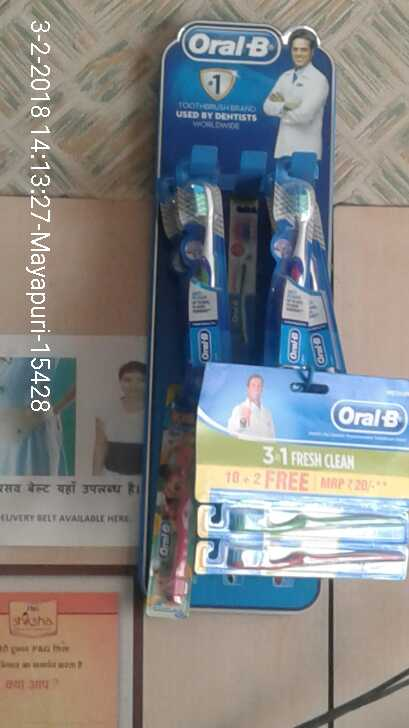oralb: (274, 180, 336, 371), (184, 168, 229, 359), (233, 533, 402, 572), (220, 506, 407, 536)
